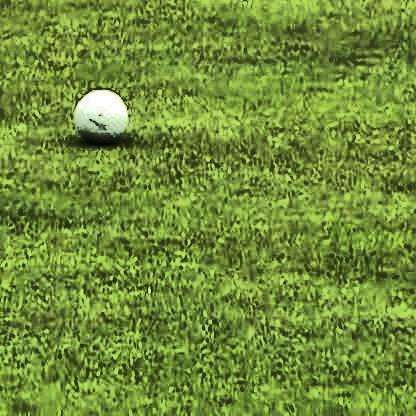golfball: (70, 86, 127, 142)
